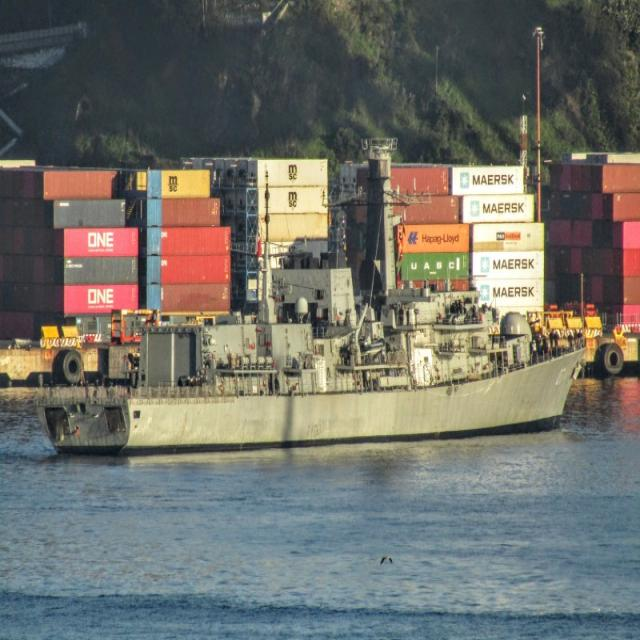Fragata: (40, 223, 589, 465)
